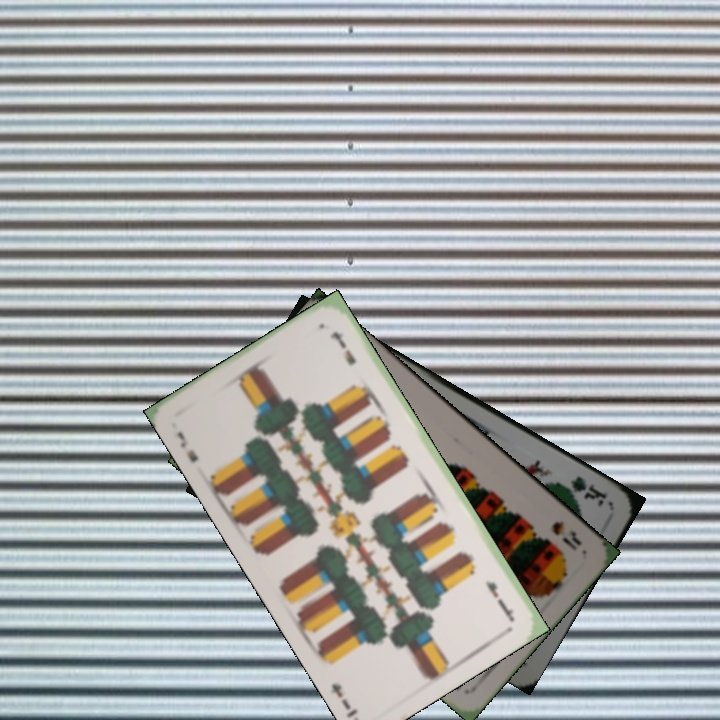E7: (481, 576, 516, 623), (173, 427, 201, 465)
GK: (556, 472, 610, 510)
S8: (548, 517, 584, 554)
